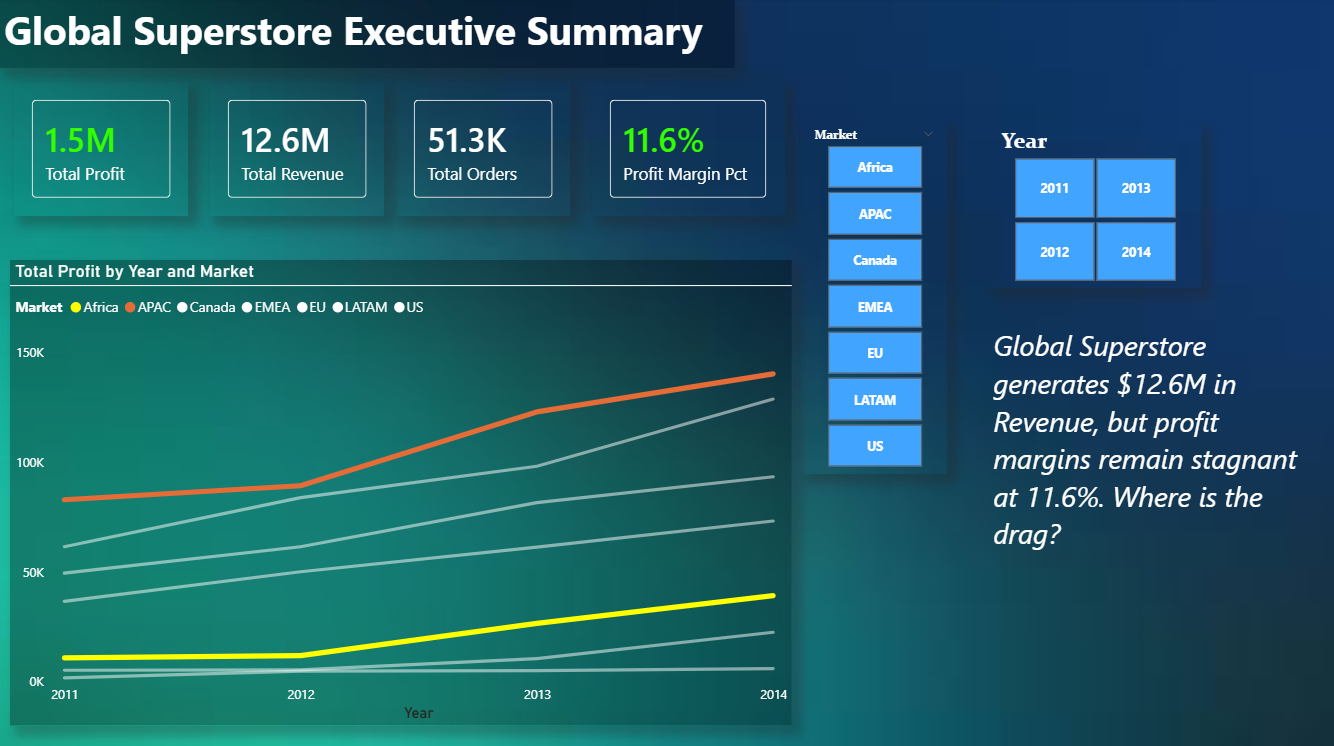

Layout of this report page (visuals, bound fields, positions):
{"tool":"powerbi","page":{"name":"Overview","canvas":[1280,720],"ordinal":0},"visuals":[{"type":"cardVisual","fields":{"Data":["Fact_Orders.Total Revenue"]},"box":[202.3,80.7,167.3,128.4],"z":0},{"type":"cardVisual","fields":{"Data":["Fact_Orders.Total Orders"]},"box":[380.3,80.7,167.3,128.4],"z":1000},{"type":"cardVisual","fields":{"Data":["Fact_Orders.Profit Margin Pct"]},"box":[568.1,80.5,184.9,128.4],"z":2000},{"type":"cardVisual","fields":{"Data":["Fact_Orders.Total Profit"]},"box":[14.6,80.7,167.3,128.4],"z":3000},{"type":"lineChart","fields":{"Category":["Dim_Date.Year"],"Y":["Fact_Orders.Total Profit"],"Series":["Fact_Orders.Market"]},"box":[10.5,251,749.2,446.5],"z":4000},{"type":"slicer","fields":{"Values":["Fact_Orders.Market"]},"box":[768.4,118.8,139.9,337.2],"z":5000},{"type":"slicer","fields":{"Values":["Dim_Date.Year"]},"box":[947.5,118.8,204.1,159],"z":6000},{"type":"textbox","box":[0,0,705.1,67.1],"z":7000},{"type":"textbox","box":[947.5,309.5,321,232.8],"z":8000}]}

Visuals, with their boxes in screenshot pixels (x1, y1, x2, y2), scaled from the page's 1280x720 canvas onto the 1334x746 screenshot:
cardVisual - Fact_Orders.Total Revenue: (left=211, top=84, right=385, bottom=217)
cardVisual - Fact_Orders.Total Orders: (left=396, top=84, right=571, bottom=217)
cardVisual - Fact_Orders.Profit Margin Pct: (left=592, top=83, right=785, bottom=216)
cardVisual - Fact_Orders.Total Profit: (left=15, top=84, right=190, bottom=217)
lineChart - Dim_Date.Year x Fact_Orders.Total Profit: (left=11, top=260, right=792, bottom=723)
slicer - Fact_Orders.Market: (left=801, top=123, right=947, bottom=472)
slicer - Dim_Date.Year: (left=987, top=123, right=1200, bottom=288)
textbox: (left=0, top=0, right=735, bottom=70)
textbox: (left=987, top=321, right=1322, bottom=562)
